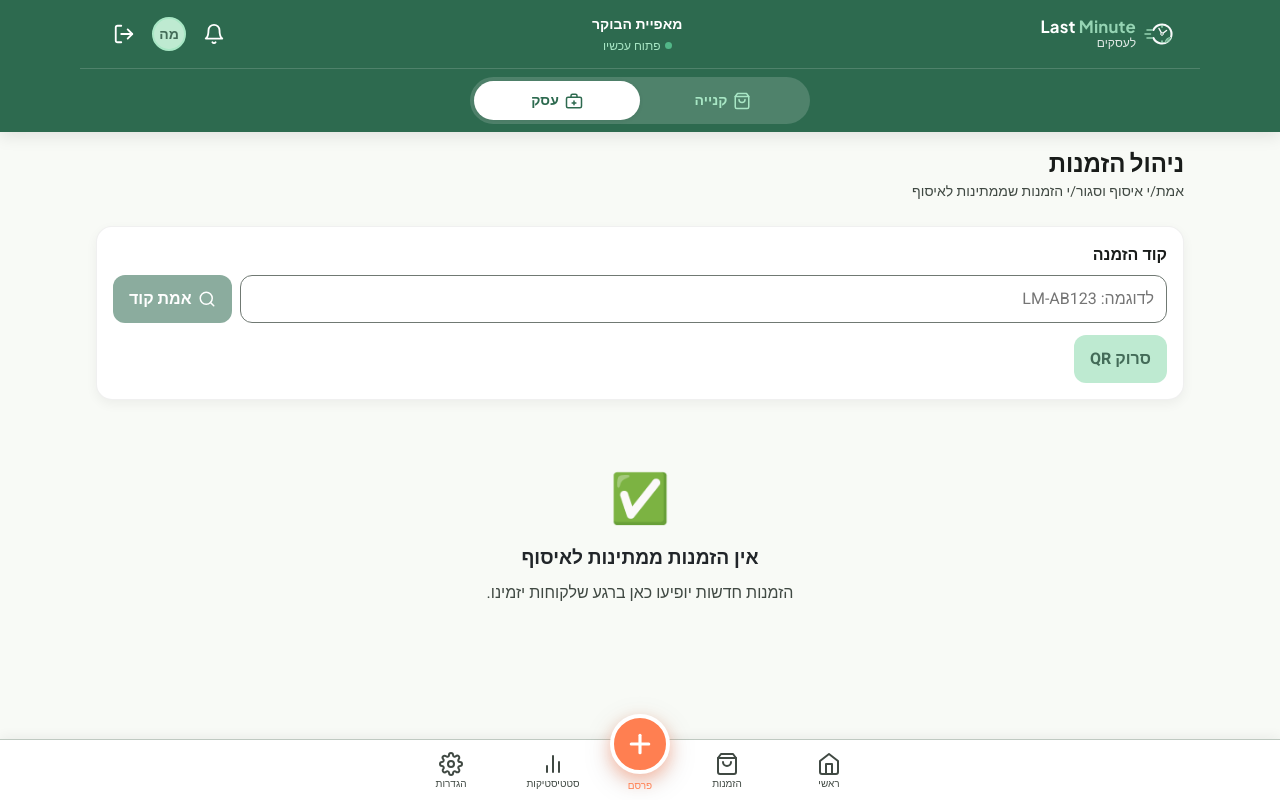
Test: B2BOrdersPage — verify by code › surfaces an error when the code cannot be verified
Type "LM-NOPE0" into the field labelled "קוד הזמנה" at [703, 299], box [240, 275, 1167, 323]
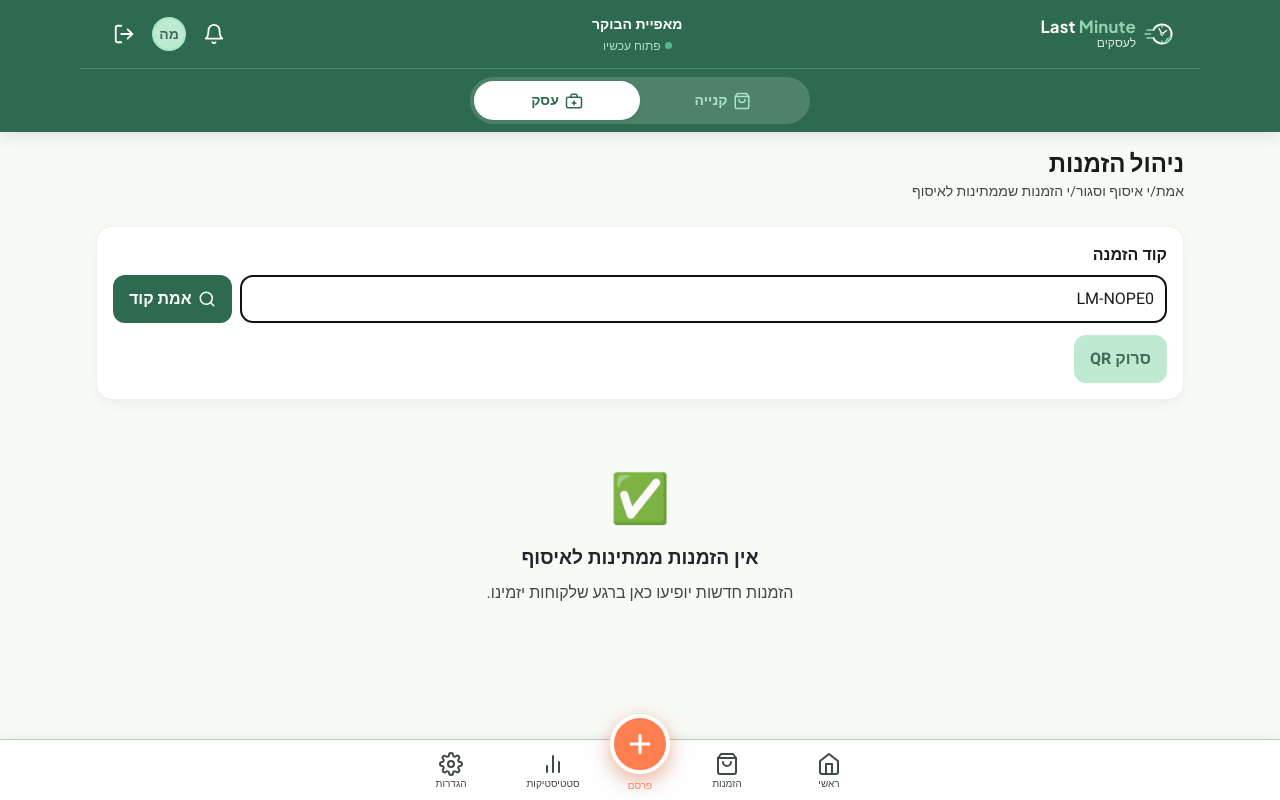
Click the button "אמת קוד" at [172, 299], box [113, 275, 232, 323]
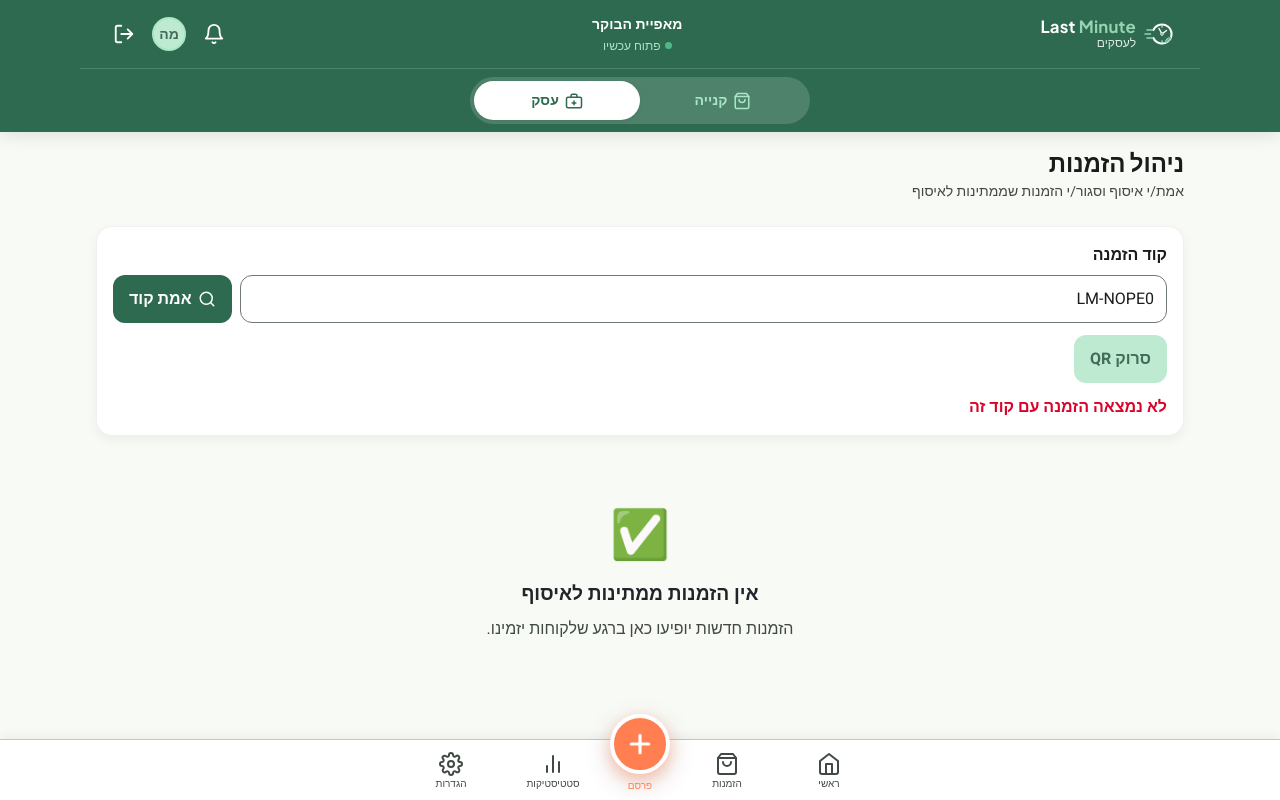
Expected: the text "לא נמצאה הזמנה עם קוד זה" is shown, [969, 395, 1167, 419]
